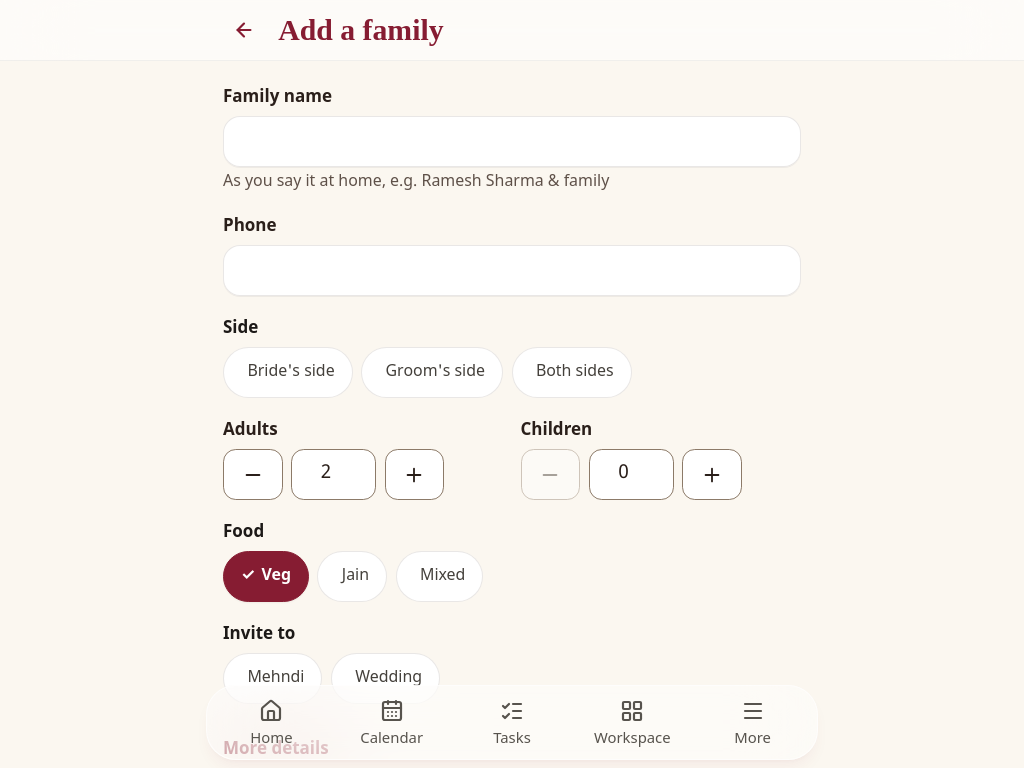
Scenario: Add a family › rules on the phone: name and side needed, people at least 1, Jain count only for Mixed
The image size is (1024, 768).
Expected: the field labelled "Family name" is shown, [223,116,801,167]
Expected: the field labelled "Jain people" is not shown
Click the radio button labelled "Mixed": (440, 577) [396,551,483,602]
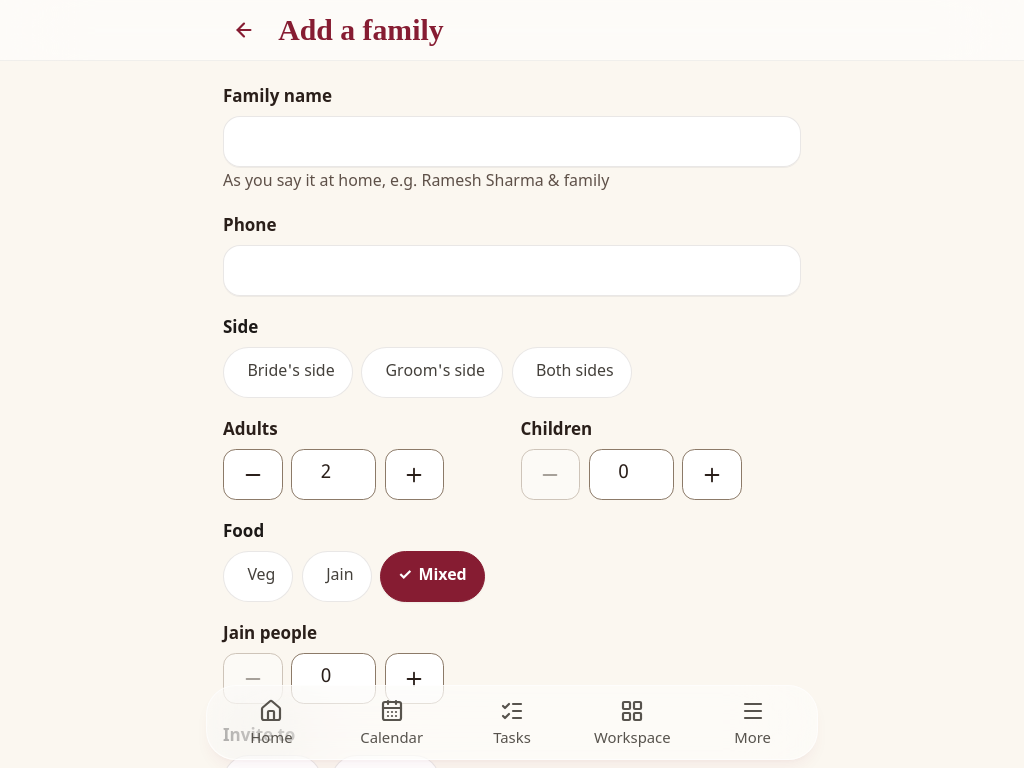
Now the number field labelled "Jain people" is shown, box [291,653,376,704]
Click the button named "Fewer Adults": (253, 475) [223,449,282,500]
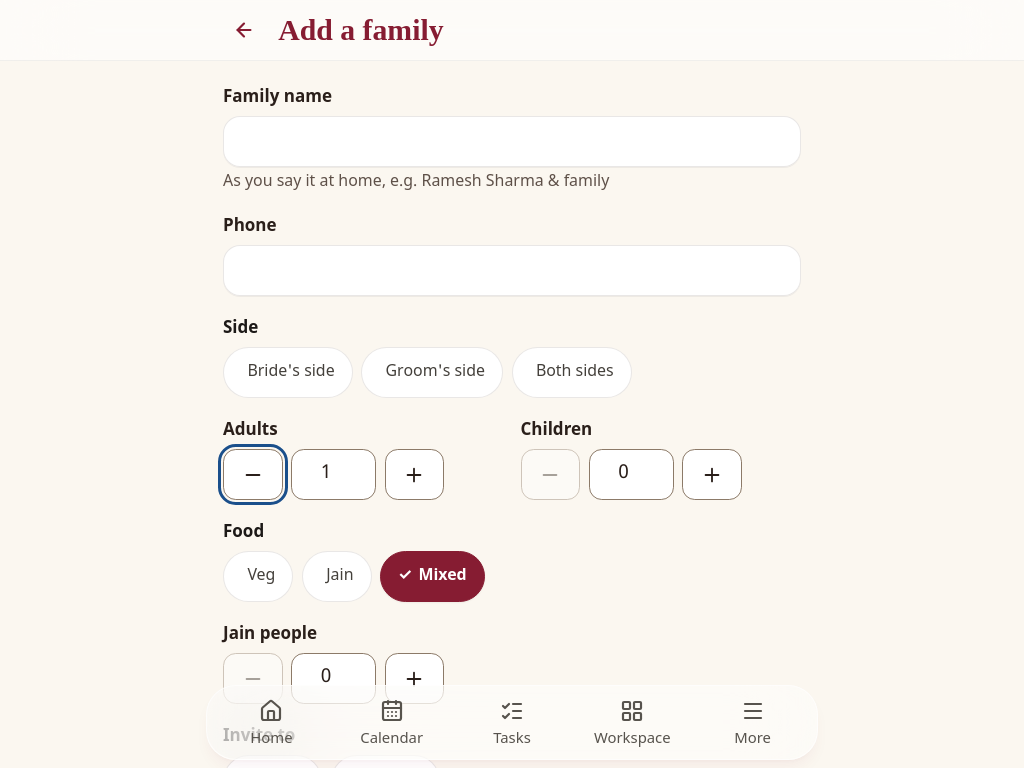
Click the button named "Fewer Adults": (253, 475) [223,449,282,500]
(page scrolled)
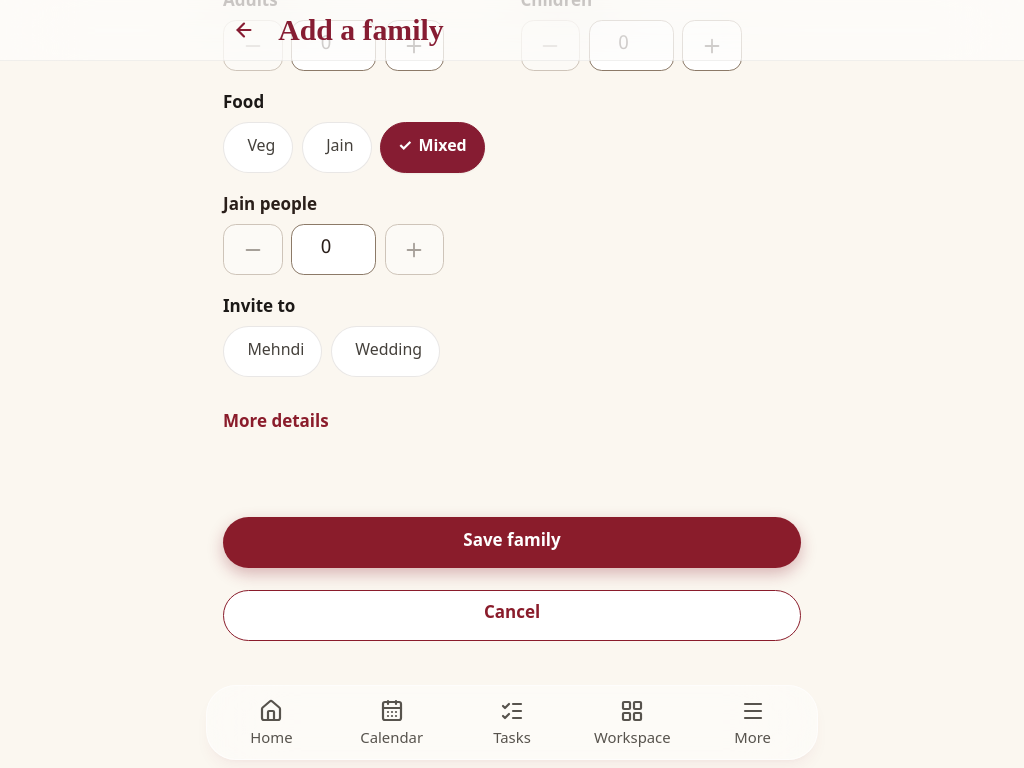
Click the button "Save family": (512, 543) [223,517,801,568]
(page scrolled)
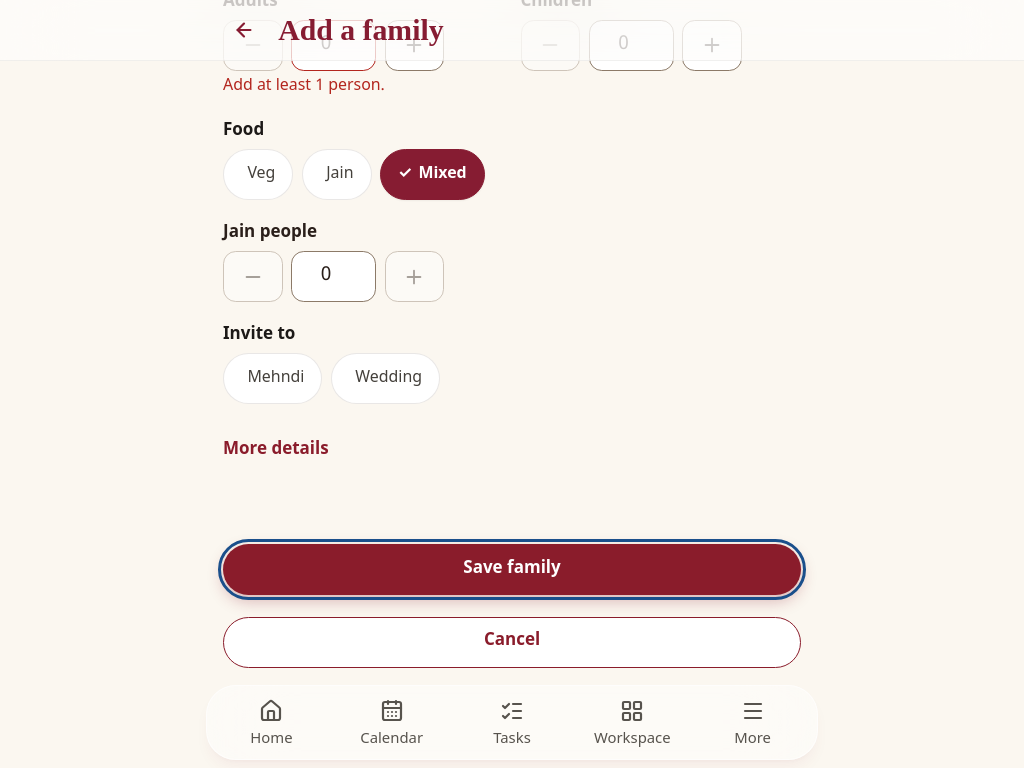
Now the text "Add at least 1 person." is shown, box [223,76,385,96]
